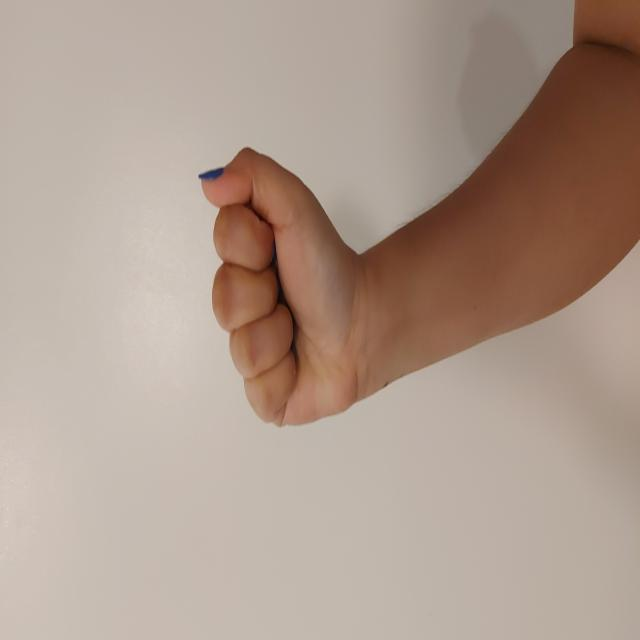A: (209, 197, 496, 372)
